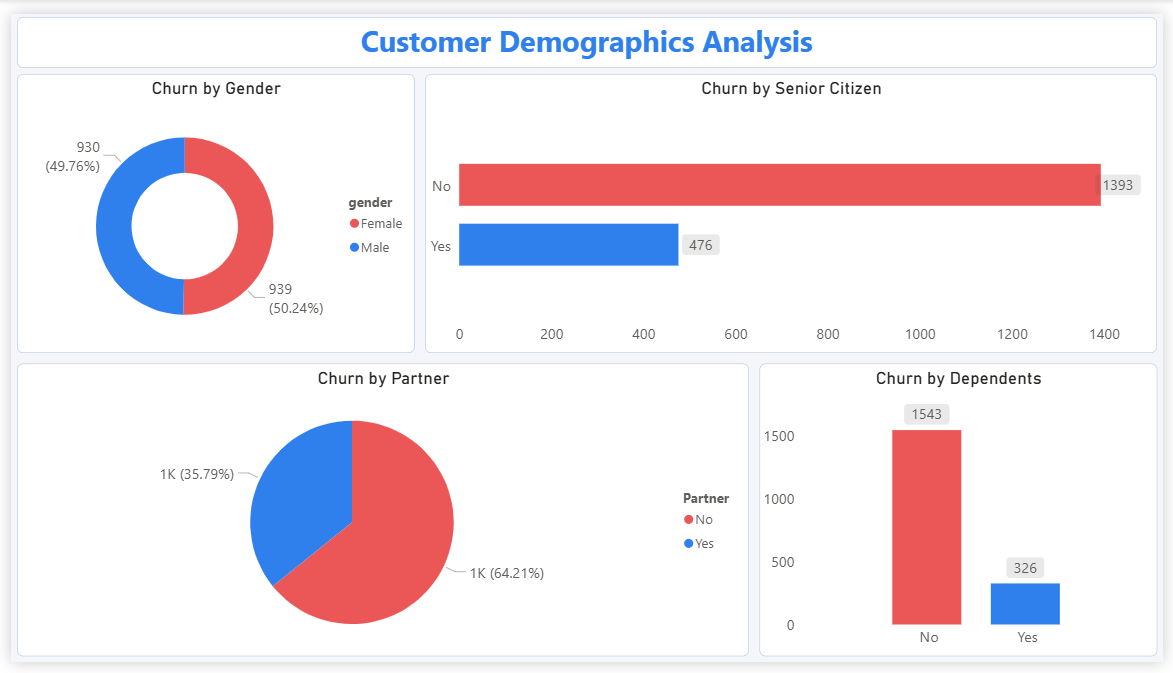

What the dashboard file says about the page in this screenshot:
{"tool":"powerbi","page":{"name":"Customer Demographics","canvas":[1280,720],"ordinal":1},"visuals":[{"type":"textbox","box":[6.7,3.3,1266.7,56.7],"z":1000},{"type":"donutChart","title":"Churn by Gender","fields":{"Category":["Telco-Customer-Churn-dataset.gender"],"Y":["Telco-Customer-Churn-dataset.Total Churn Customer"]},"box":[6.7,66.7,441.7,310],"z":2000},{"type":"clusteredBarChart","title":"Churn by Senior Citizen","fields":{"Y":["Telco-Customer-Churn-dataset.Total Churn Customer"],"Category":["Telco-Customer-Churn-dataset.Senior Citizen"]},"box":[460,66.7,813.3,310],"z":3000},{"type":"pieChart","title":"Churn by Partner","fields":{"Category":["Telco-Customer-Churn-dataset.Partner"],"Y":["Telco-Customer-Churn-dataset.Total Churn Customer"]},"box":[6.7,388.3,813.3,325],"z":4000},{"type":"clusteredColumnChart","title":"Churn by Dependents","fields":{"Category":["Telco-Customer-Churn-dataset.Dependents"],"Y":["Telco-Customer-Churn-dataset.Total Churn Customer"]},"box":[831.7,388.3,441.7,325],"z":5000}]}

Visuals, with their boxes in screenshot pixels (x1, y1, x2, y2), scaled from the page's 1280x720 canvas onto the 1173x673 screenshot:
textbox: 6,3,1167,56
"Churn by Gender" donutChart: 6,62,411,352
"Churn by Senior Citizen" clusteredBarChart: 422,62,1167,352
"Churn by Partner" pieChart: 6,363,751,667
"Churn by Dependents" clusteredColumnChart: 762,363,1167,667
